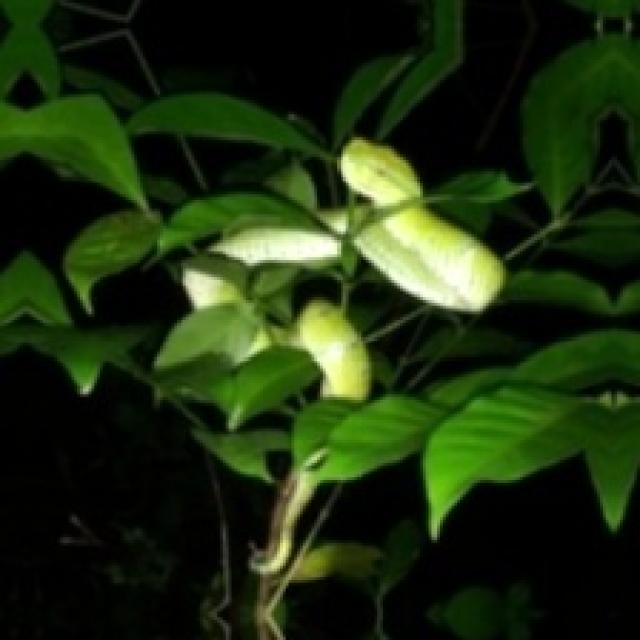north ph temple pitviper: (209, 137, 503, 309), (340, 137, 503, 309), (183, 266, 369, 397)
